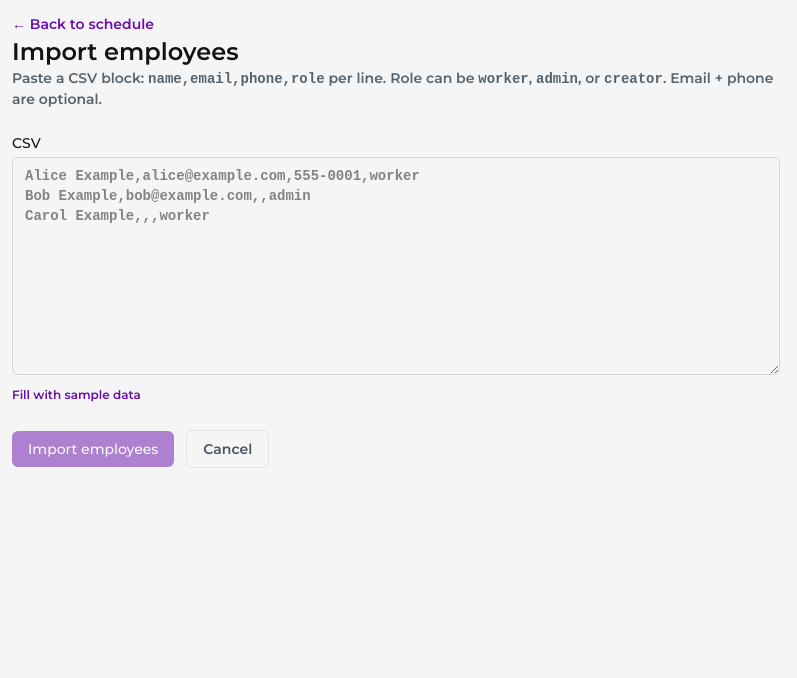
Test case: ImportEmployeesClient › imports valid rows and shows the success banner
Click the button "Fill with sample data". click: (76, 395)
box: [12, 387, 141, 403]
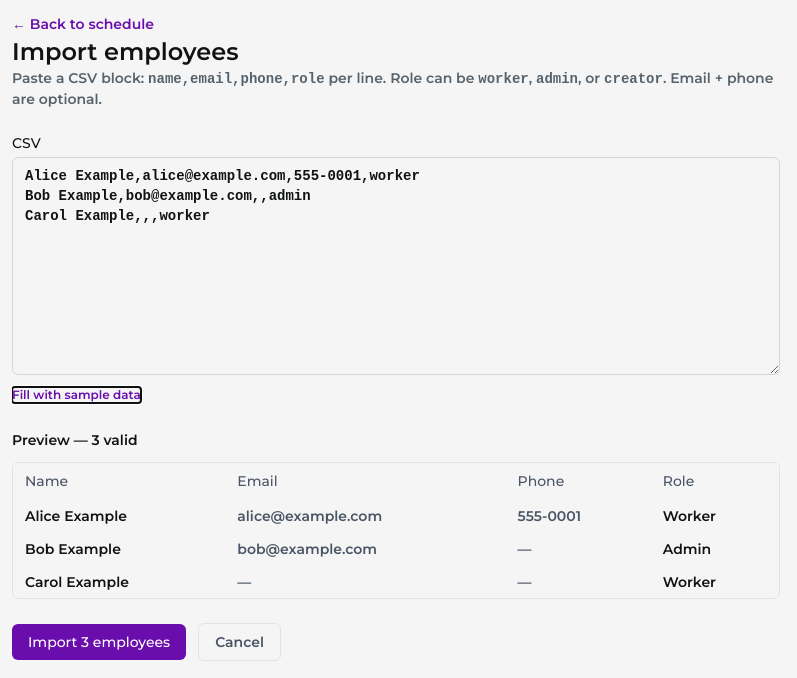
Click the button "Import 3 employees". click: (99, 642)
box: [12, 624, 186, 660]
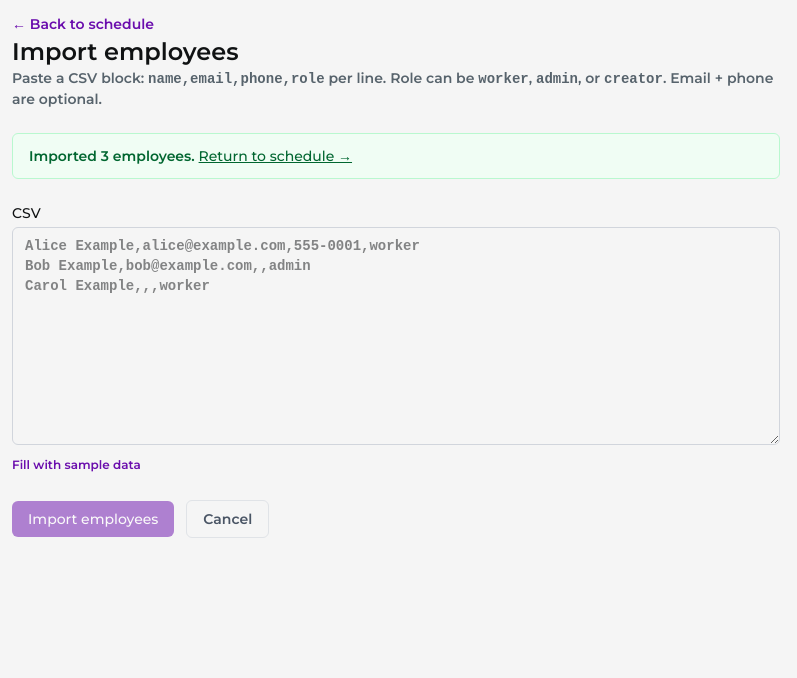
expect the text "Imported 3 employees. Return to schedule →" is shown: met, box [12, 133, 780, 179]
